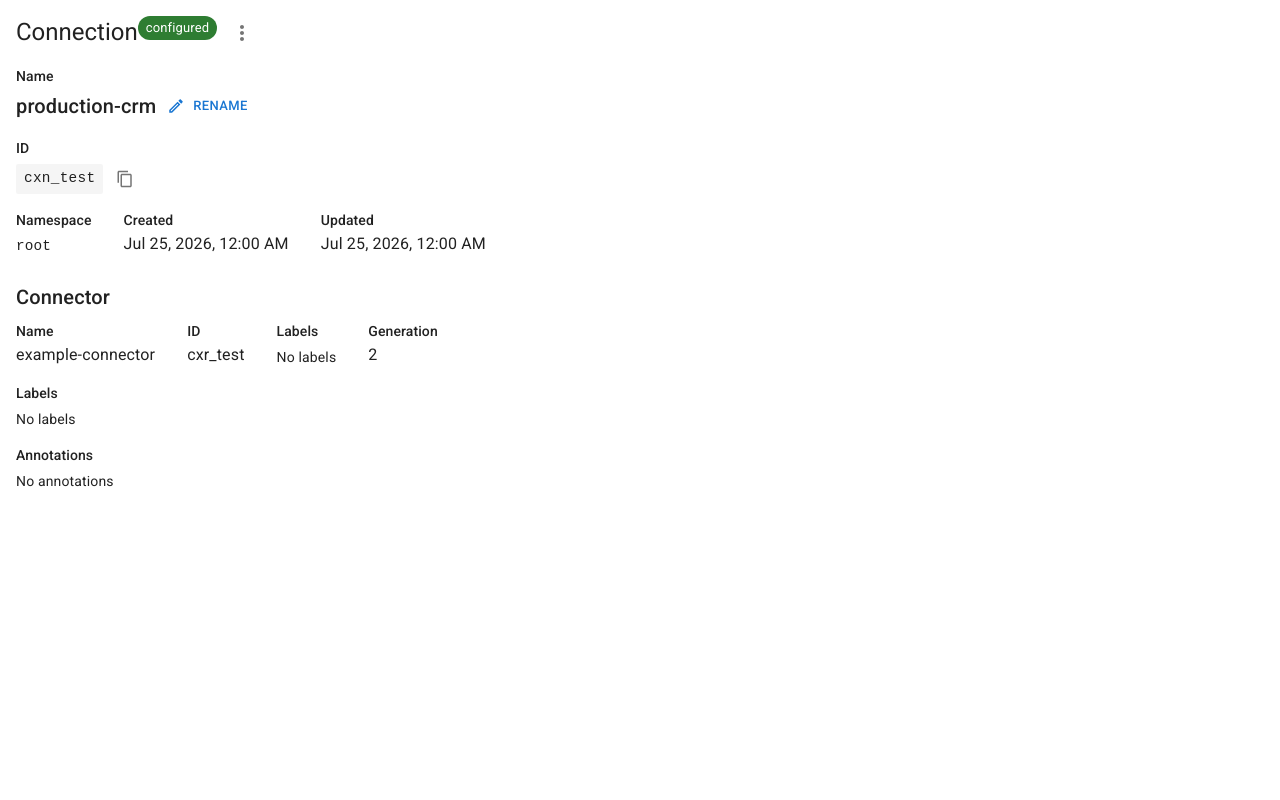
Test: ConnectionDetail › explains when no other connector generations are eligible instead of rendering an empty selector
Check: the heading "Connection" is shown, box [16,16,138,50]
Click the button named "actions".
click(242, 33)  # box [225,16,259,50]
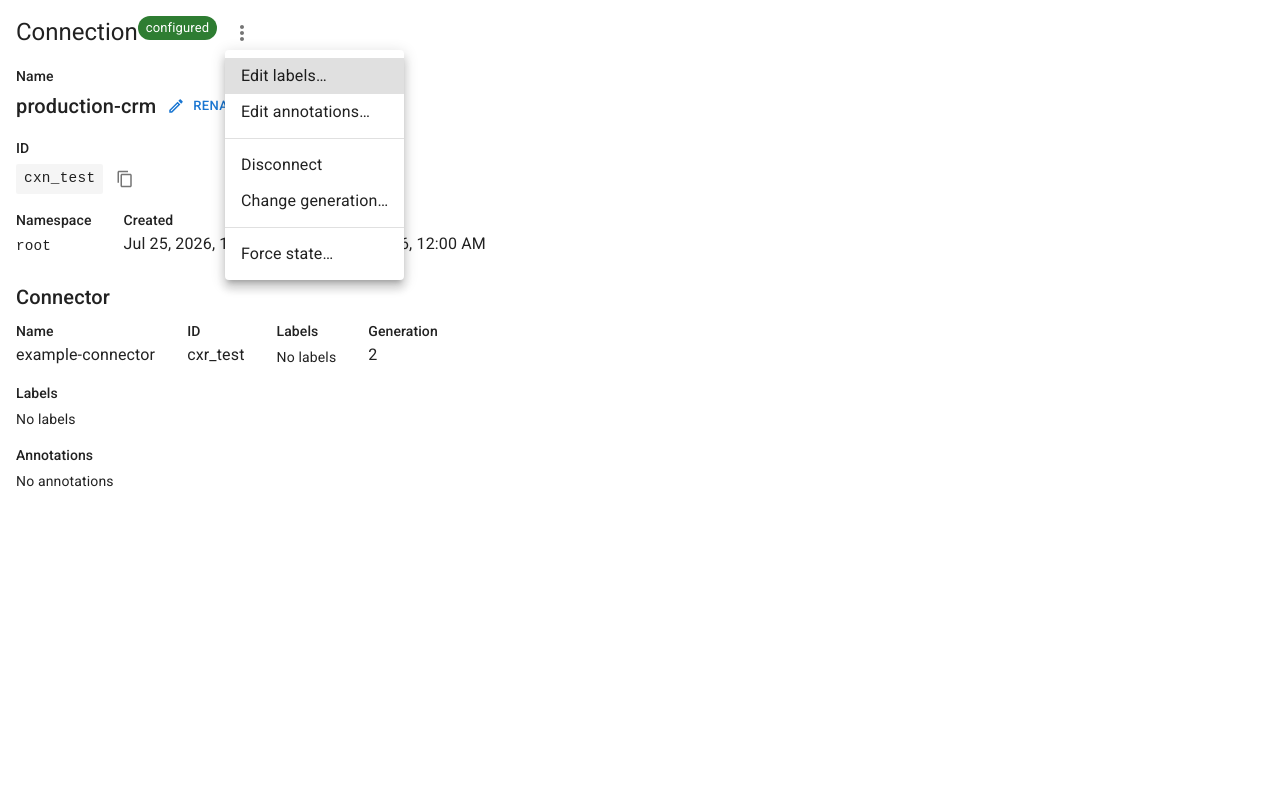
Click the menu item "Change generation…".
click(315, 200)  # box [241,191,388,210]
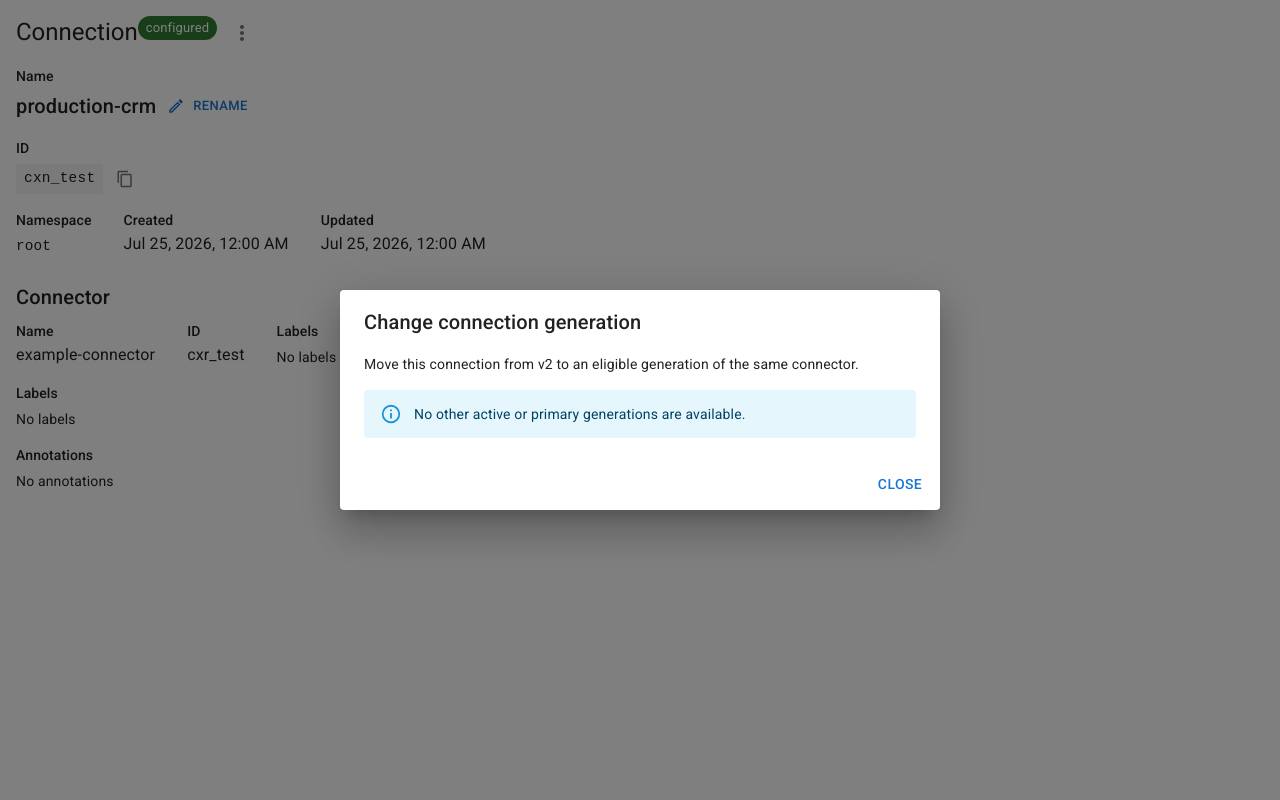
Check: the message reads "No other active or primary generations are available.", box [414,406,746,422]
Check: the button "Close" is shown, box [868,466,932,502]
Check: the menu item "Change generation" is gone
